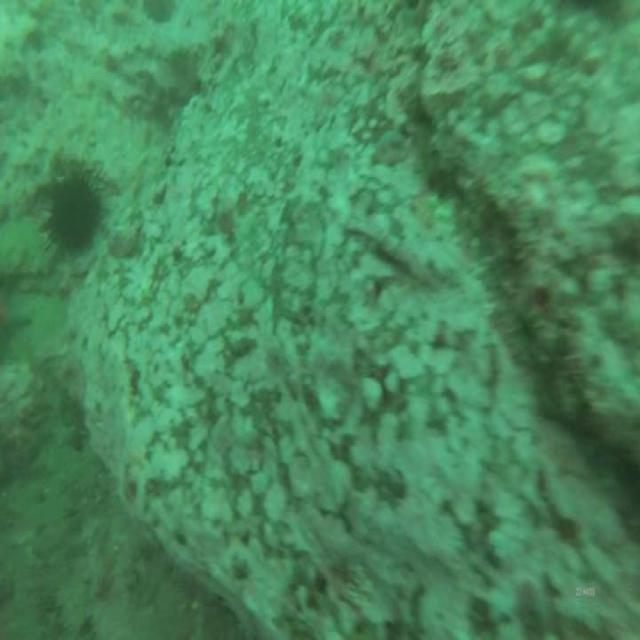echinus: (32, 160, 111, 276)
